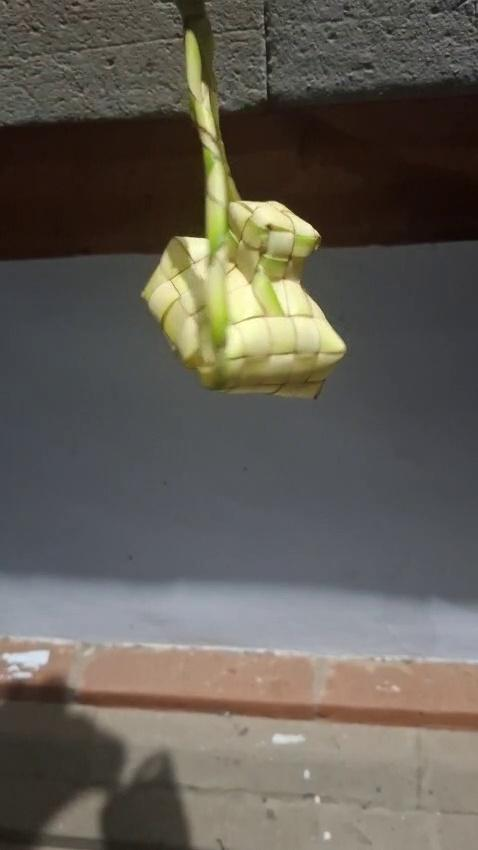Tipat Gong: (141, 14, 348, 403)
